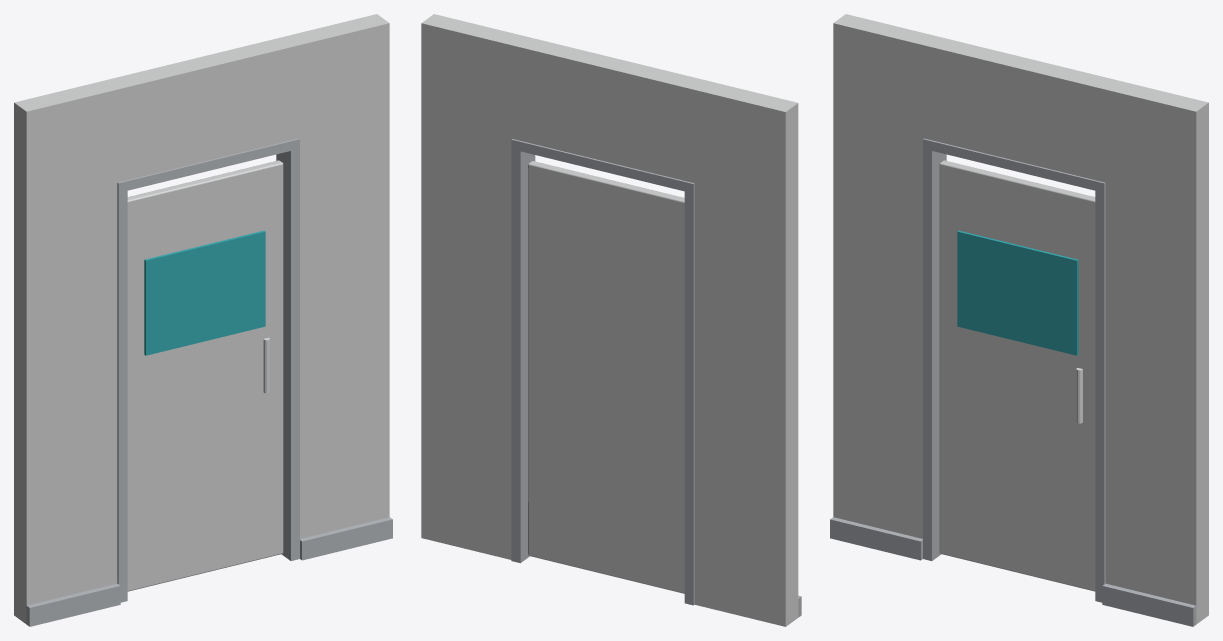
The picture shows the model from 3 angles, left to right: view 1: azimuth 30°, elevation 25°; view 2: azimuth 150°, elevation 25°; view 3: azimuth 330°, elevation 25°; orthographic projection.
Parts seen in each view (by area): view 1: consulting-room-door-module, door-room/white, door-room/teal; view 2: consulting-room-door-module, door-room/white; view 3: consulting-room-door-module, door-room/white, door-room/teal.
Part boxes in pixels (x1=…): consulting-room-door-module: x1=14, y1=14, x2=392, y2=626; door-room/white: x1=127, y1=160, x2=283, y2=591; door-room/teal: x1=144, y1=230, x2=265, y2=355; consulting-room-door-module: x1=421, y1=14, x2=801, y2=626; door-room/white: x1=528, y1=161, x2=684, y2=593; consulting-room-door-module: x1=830, y1=14, x2=1208, y2=626; door-room/white: x1=939, y1=160, x2=1095, y2=591; door-room/teal: x1=957, y1=230, x2=1078, y2=355.
Bounding box in the file's own units: 2 × 2.7 × 0.16.
